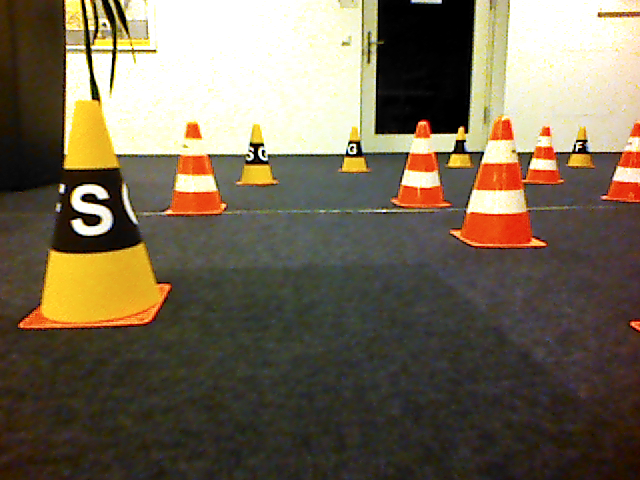orangeconesmall: (448, 117, 547, 249), (164, 121, 228, 218), (390, 119, 455, 208), (602, 121, 640, 203), (522, 126, 564, 185)
yellowcone: (18, 100, 171, 330), (234, 124, 277, 186), (338, 127, 371, 173), (444, 127, 476, 169), (566, 127, 597, 169)
